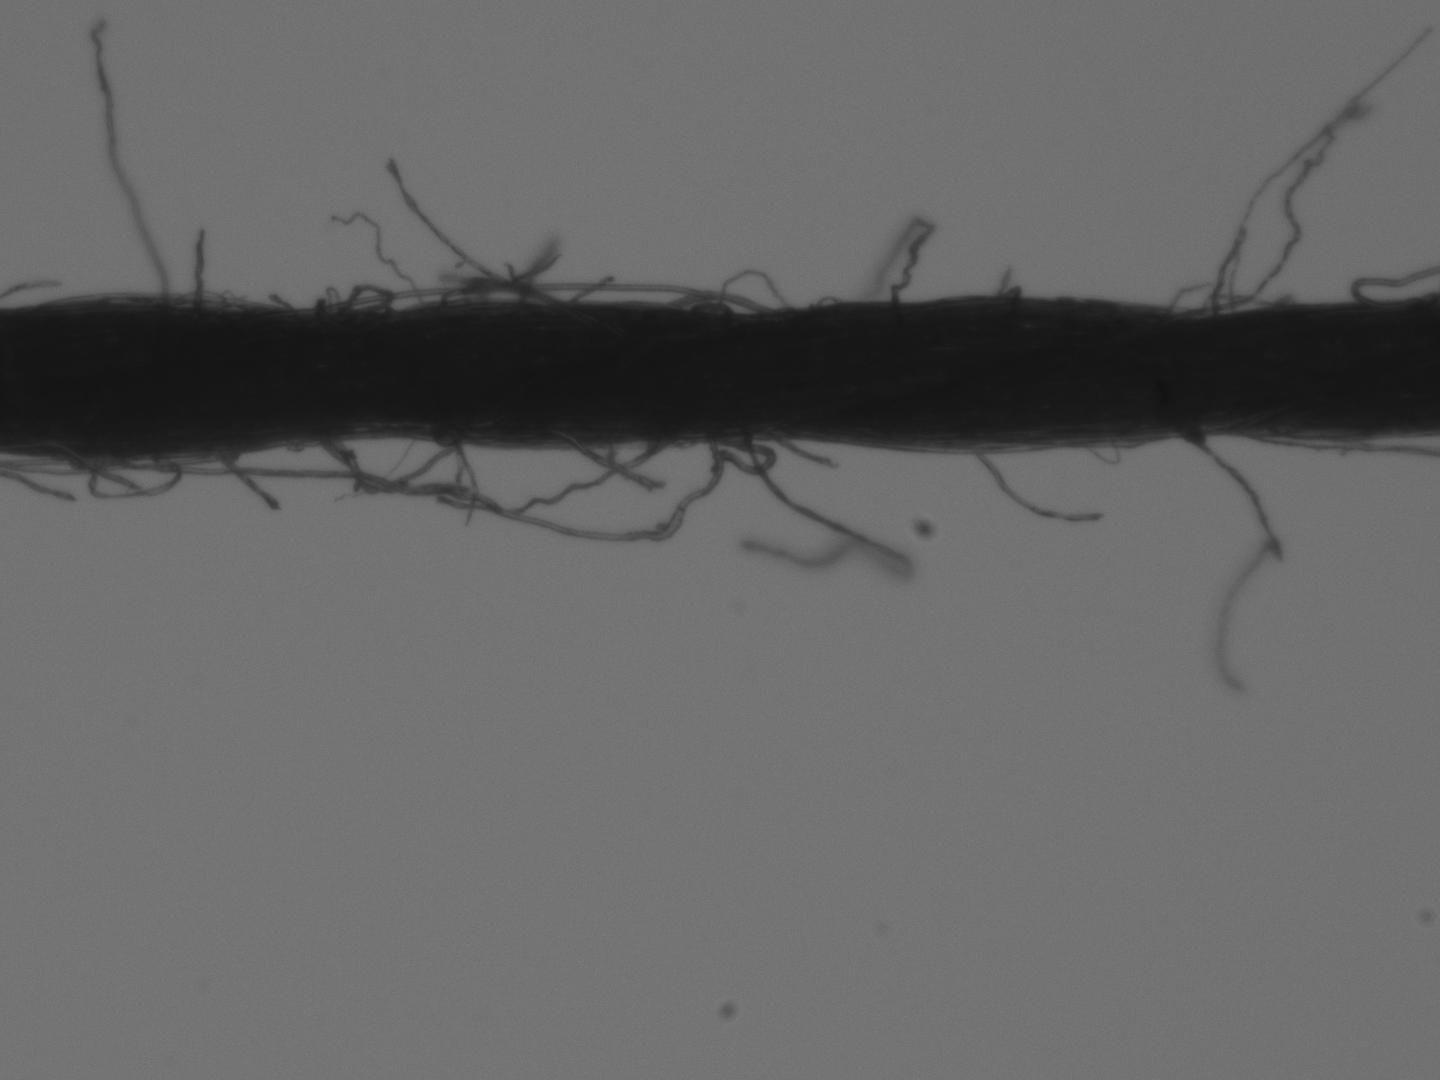loop_fiber: (320, 434, 667, 513), (312, 437, 461, 492), (85, 450, 181, 503), (438, 279, 550, 313), (670, 285, 782, 313), (331, 284, 395, 318)
protruding_fiber: (1179, 437, 1280, 692), (980, 453, 1102, 523), (211, 445, 280, 512), (887, 218, 937, 307), (193, 227, 207, 305)
